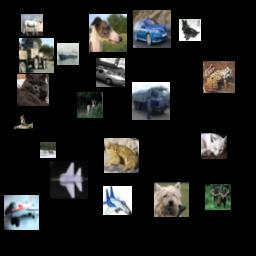airplane: (50, 161, 88, 199), (4, 195, 39, 230), (103, 186, 132, 215)
automobile: (133, 10, 171, 48), (96, 58, 125, 87)
cat: (17, 74, 49, 106), (201, 133, 227, 159)
deer: (77, 92, 103, 118), (205, 184, 231, 210), (40, 142, 56, 158)
dog: (89, 14, 127, 52), (154, 182, 189, 217), (179, 19, 201, 41)
frog: (104, 138, 139, 173), (203, 61, 235, 93)
ship: (57, 43, 79, 65)
truck: (132, 82, 170, 120), (19, 38, 54, 73)
